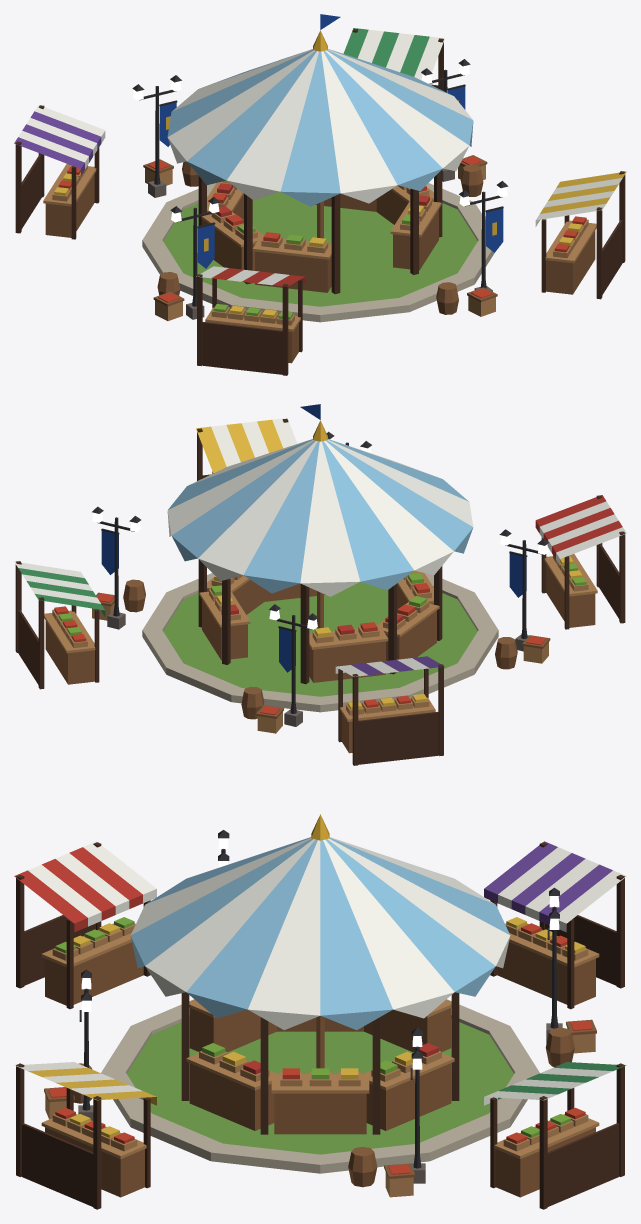
File: market.fbx
3 renders of one model, top to bottom at view 1: azimuth 30°, elevation 25°; view 2: azimuth 150°, elevation 25°; view 3: azimuth 270°, elevation 25°, orthographic. The views are drawn at different scales.
Parts seen in each view (by area): view 1: market; view 2: market; view 3: market.
Part boxes in pixels (box(x1,y1,x2,y2)): market: box(14, 14, 626, 375); market: box(14, 404, 626, 765); market: box(14, 814, 626, 1209).
Bounding box in the file's own units: 12.59 × 6.5 × 12.59.
